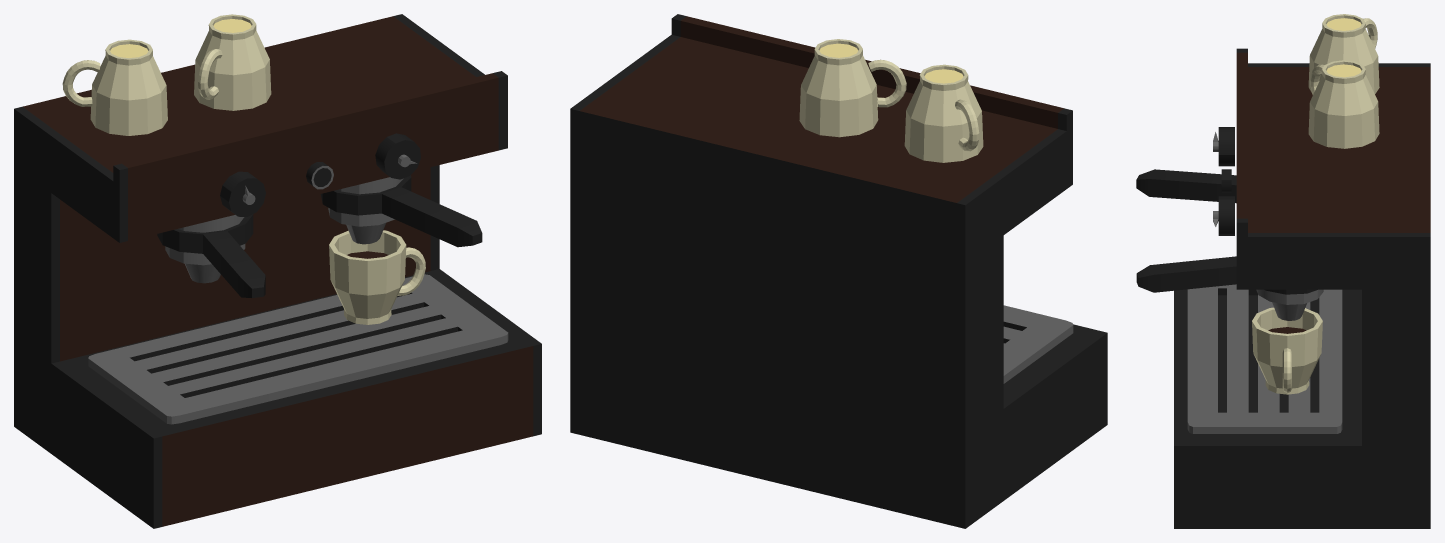
Rendered from coffeemachine.fbx.
3 renders of one model, left to right at view 1: azimuth 30°, elevation 25°; view 2: azimuth 150°, elevation 25°; view 3: azimuth 270°, elevation 25°, orthographic. The views are drawn at different scales.
Visible parts, largest first — view 1: coffeemachine.002; view 2: coffeemachine.002; view 3: coffeemachine.002.
Boxes of the visible parts, bbox=[...] form: coffeemachine.002: bbox=[14, 14, 541, 528]; coffeemachine.002: bbox=[570, 14, 1107, 528]; coffeemachine.002: bbox=[1136, 14, 1430, 528].
Bounding box in the file's own units: 66.83 × 64.96 × 47.77.
